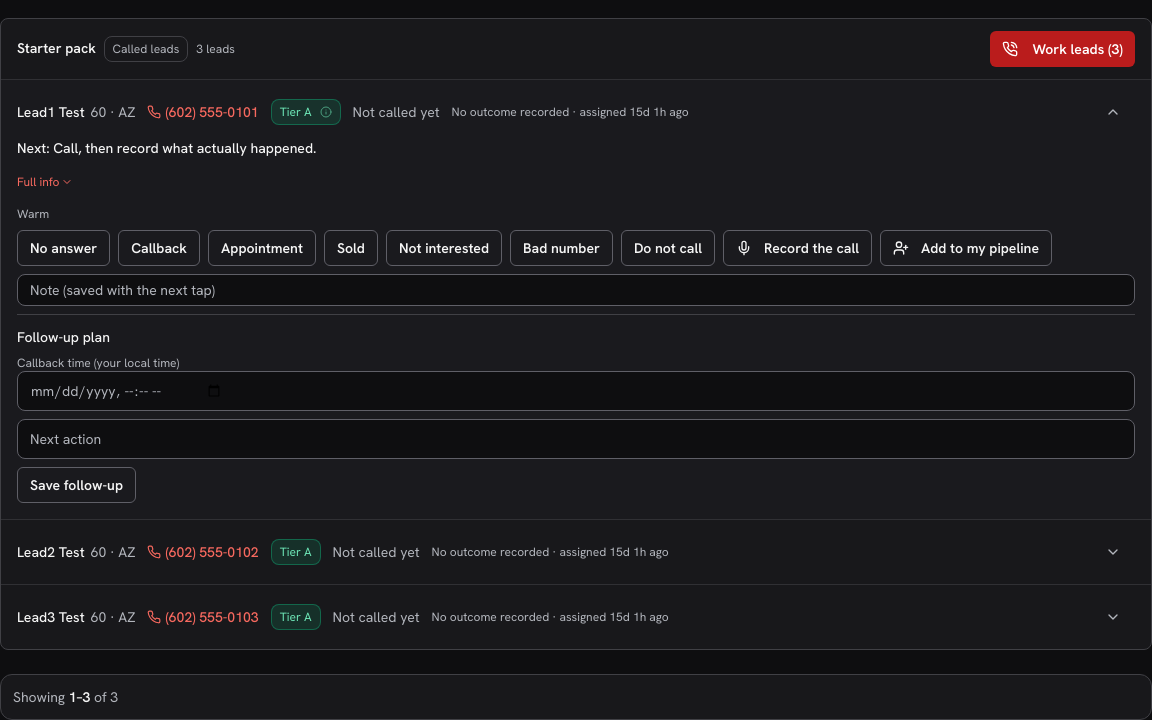
Test case: My Leads work list › the arrow opens and closes a lead, and closing leaves every lead as one line
(page scrolled)
Click the button named "Open Lead2 Test" at (1113,552), box [1091,530,1135,574]
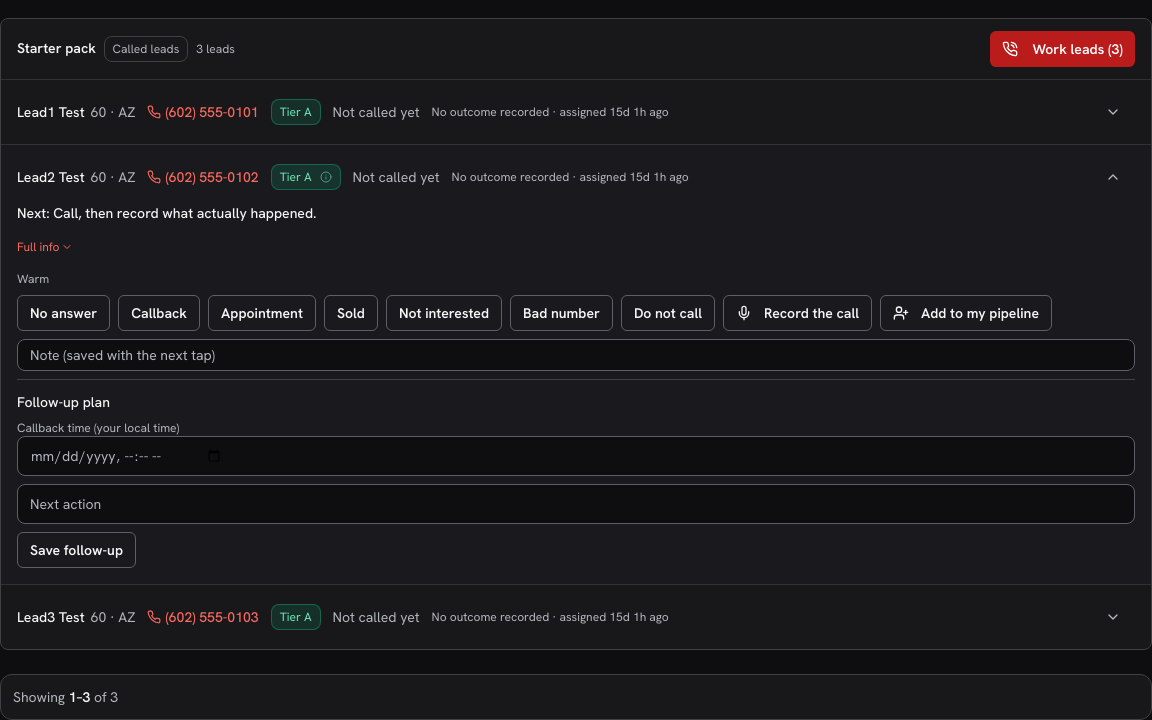
Expected: the list item with test id "lead-row" shows "Lead2", [17,168,85,186]
Click the button named "Close Lead2 Test" at (1113,177), box [1091,155,1135,199]
(page scrolled)
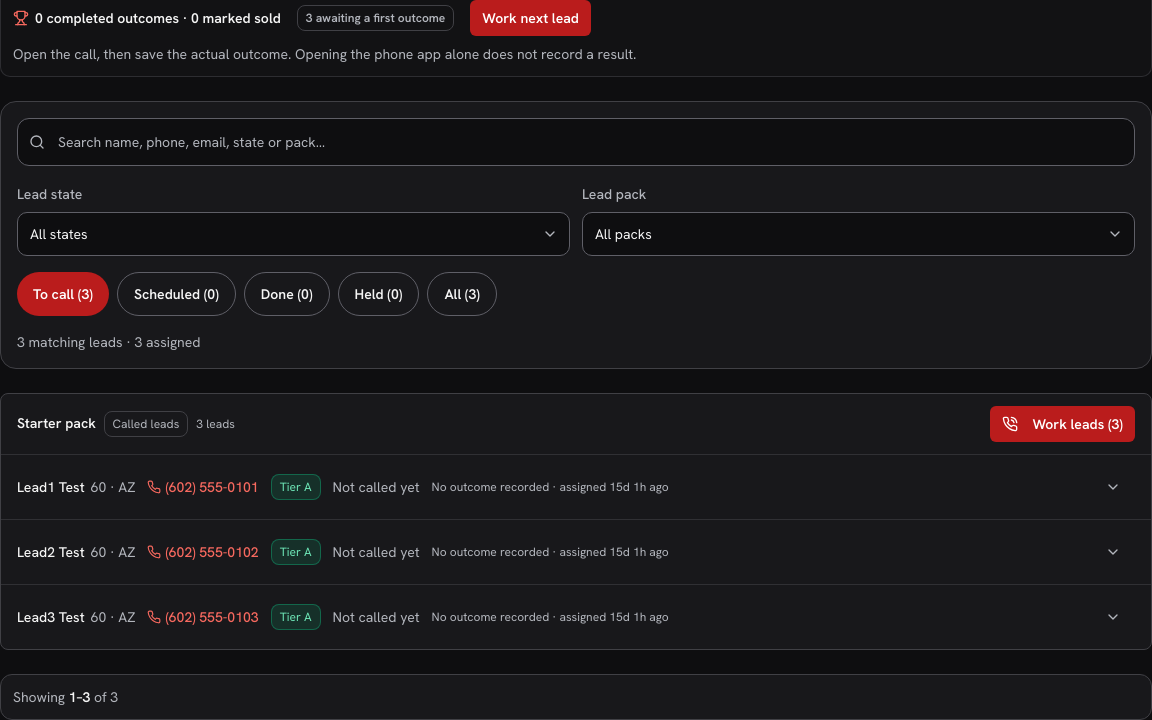
Expected: the element with test id "lead-panel" is gone
